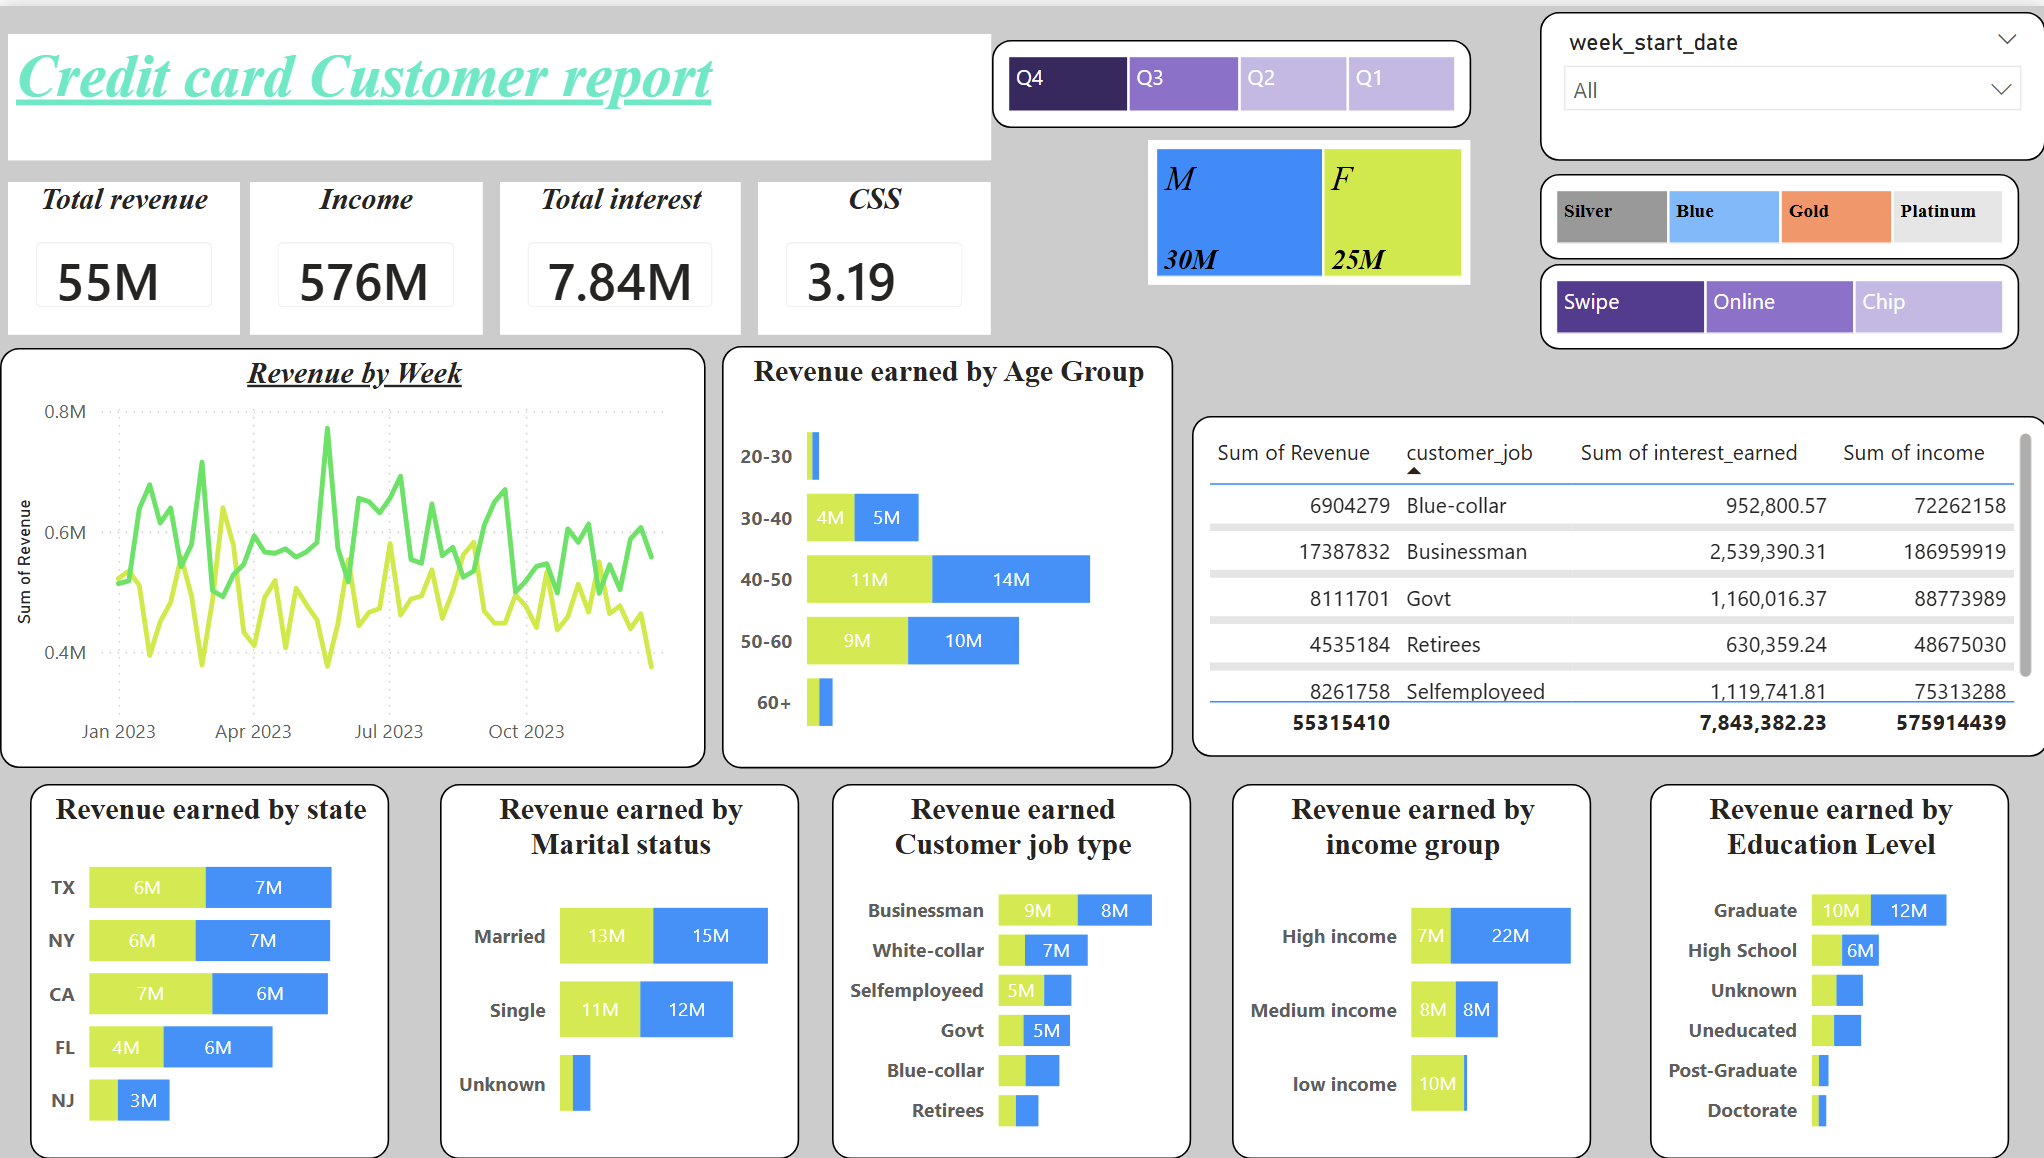

This screenshot's page, from the dashboard's own definition file:
{"tool":"powerbi","page":{"name":"Page 3","canvas":[1280,720],"ordinal":2},"visuals":[{"type":"textbox","box":[6.4,17.8,614.5,79],"z":0},{"type":"tableEx","fields":{"Values":["Sum(public cc_detail.Revenue)","public cust_detail.customer_job","Sum(public cc_detail.interest_earned)","Sum(public cust_detail.income)"]},"box":[745.8,256.3,535.5,212.9],"z":1000},{"type":"cardVisual","title":"Total revenue","fields":{"Data":["Sum(public cc_detail.Revenue)"]},"box":[6.4,109.6,145,95.6],"z":2000},{"type":"cardVisual","title":"Income","fields":{"Data":["Sum(public cust_detail.income)"]},"box":[158.1,109.6,145.3,95.6],"z":3000},{"type":"cardVisual","title":"Total interest","fields":{"Data":["Sum(public cc_detail.interest_earned)"]},"box":[313.6,109.6,150.4,95.6],"z":4000},{"type":"slicer","fields":{"Values":["public cc_detail.week_start_date"]},"box":[964.1,3.8,316.2,93],"z":5000},{"type":"treemap","fields":{"Group":["public cc_detail.qtr"],"Values":["Avg(public cc_detail.client_num)"]},"box":[620.9,21.7,299.6,54.8],"z":6000},{"type":"treemap","fields":{"Values":["Avg(public cc_detail.client_num)"],"Group":["public cc_detail.card_category"]},"box":[963.8,104.5,299.6,53.5],"z":7000},{"type":"barChart","title":"Revenue earned by income group","fields":{"Y":["Sum(public cc_detail.Revenue)"],"Category":["public cust_detail.incomegroup"],"Series":["public cust_detail.gender"]},"box":[771.3,485.7,224.4,234.6],"z":8000},{"type":"cardVisual","title":"CSS","fields":{"Data":["Avg(public cust_detail.cust_satisfaction_score)"]},"box":[475.5,109.6,145.3,95.6],"z":9000},{"type":"lineChart","title":"Revenue by Week","fields":{"Y":["Sum(public cc_detail.Revenue)"],"Series":["public cust_detail.gender"],"Category":["public cc_detail.week_start_date.Variation.Date Hierarchy.Year","public cc_detail.week_start_date.Variation.Date Hierarchy.Month","public cc_detail.week_start_date.Variation.Date Hierarchy.Day"]},"box":[1.3,214.2,441.1,262.6],"z":10000},{"type":"treemap","fields":{"Values":["Sum(public cc_detail.Revenue)"],"Group":["public cust_detail.gender"]},"box":[719,84.1,201.4,90.5],"z":11000},{"type":"barChart","title":"Revenue earned by Age Group","fields":{"Y":["Sum(public cc_detail.Revenue)"],"Category":["public cust_detail.Agegroup"],"Series":["public cust_detail.gender"]},"box":[452.6,212.9,281.8,263.9],"z":12000},{"type":"barChart","title":"Revenue earned Customer job type","fields":{"Y":["Sum(public cc_detail.Revenue)"],"Category":["public cust_detail.customer_job"],"Series":["public cust_detail.gender"]},"box":[521.4,485.7,224.4,234.6],"z":13000},{"type":"barChart","title":"Revenue earned by Education Level","fields":{"Y":["Sum(public cc_detail.Revenue)"],"Category":["public cust_detail.education_level"],"Series":["public cust_detail.gender"]},"box":[1032.7,485.7,224.4,234.6],"z":14000},{"type":"barChart","title":"Revenue earned by state","fields":{"Y":["Sum(public cc_detail.Revenue)"],"Category":["public cust_detail.state_cd"],"Series":["public cust_detail.gender"]},"box":[20.4,485.7,224.4,234.6],"z":15000},{"type":"barChart","title":"Revenue earned by Marital status","fields":{"Y":["Sum(public cc_detail.Revenue)"],"Category":["public cust_detail.marital_status"],"Series":["public cust_detail.gender"]},"box":[276.7,485.7,224.4,234.6],"z":16000},{"type":"treemap","fields":{"Values":["Avg(public cc_detail.client_num)"],"Group":["public cc_detail.use_chip"]},"box":[963.8,160.6,299.6,53.5],"z":17000}]}

Visuals, with their boxes in screenshot pixels (x1, y1, x2, y2), scaled from the page's 1280x720 canvas onto the 2044x1158 screenshot:
textbox: Rect(10, 29, 991, 156)
tableEx - Sum(public cc_detail.Revenue) x public cust_detail.customer_job: Rect(1191, 412, 2043, 755)
"Total revenue" cardVisual: Rect(10, 176, 242, 330)
"Income" cardVisual: Rect(252, 176, 484, 330)
"Total interest" cardVisual: Rect(501, 176, 741, 330)
slicer - public cc_detail.week_start_date: Rect(1540, 6, 2043, 156)
treemap - public cc_detail.qtr x Avg(public cc_detail.client_num): Rect(991, 35, 1470, 123)
treemap - Avg(public cc_detail.client_num) x public cc_detail.card_category: Rect(1539, 168, 2017, 254)
"Revenue earned by income group" barChart: Rect(1232, 781, 1590, 1157)
"CSS" cardVisual: Rect(759, 176, 991, 330)
"Revenue by Week" lineChart: Rect(2, 345, 706, 767)
treemap - Sum(public cc_detail.Revenue) x public cust_detail.gender: Rect(1148, 135, 1470, 281)
"Revenue earned by Age Group" barChart: Rect(723, 342, 1173, 767)
"Revenue earned Customer job type" barChart: Rect(833, 781, 1191, 1157)
"Revenue earned by Education Level" barChart: Rect(1649, 781, 2007, 1157)
"Revenue earned by state" barChart: Rect(33, 781, 391, 1157)
"Revenue earned by Marital status" barChart: Rect(442, 781, 800, 1157)
treemap - Avg(public cc_detail.client_num) x public cc_detail.use_chip: Rect(1539, 258, 2017, 344)
